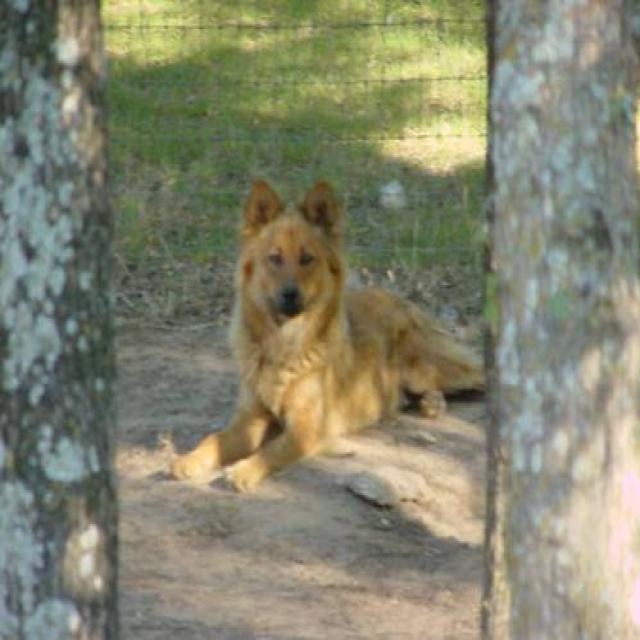dog: (167, 176, 486, 493)
